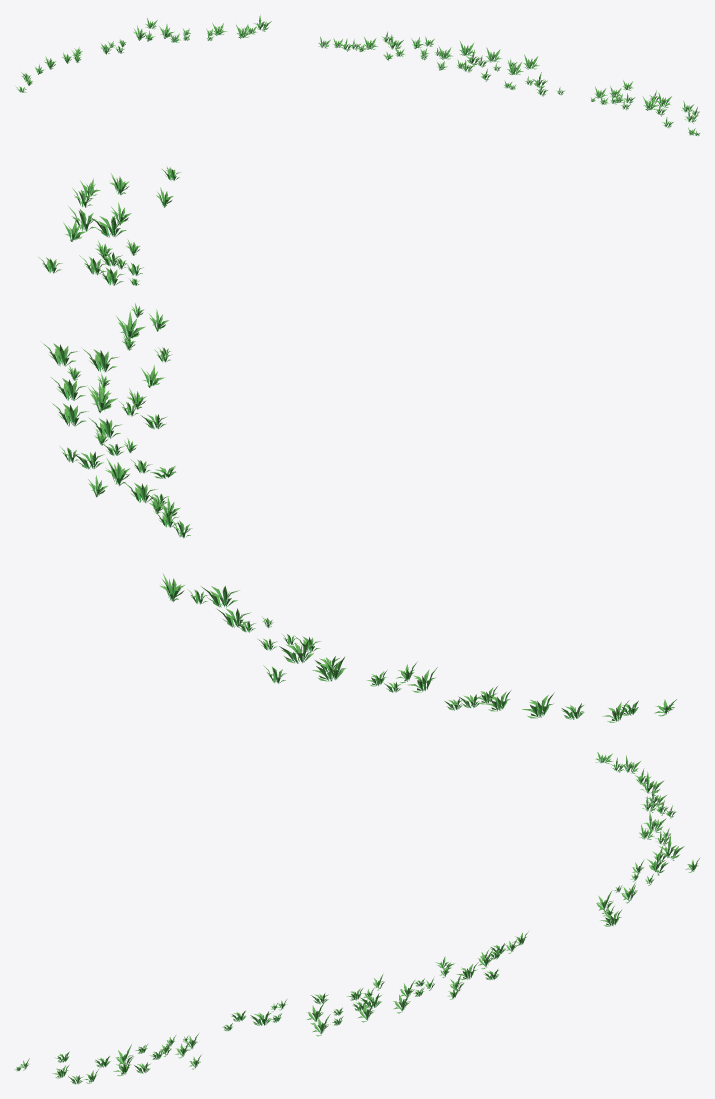
File: Area_12_19.fbx
3 views of the same model, one above another, from view 1: azimuth 30°, elevation 25°; view 2: azimuth 150°, elevation 25°; view 3: azimuth 270°, elevation 25° (orthographic). The views are drawn at different scales.
Visible parts, largest first — view 1: Area_12_19; view 2: Area_12_19; view 3: Area_12_19.
Part boxes in pixels (box(x1,y1,x2,y2)): Area_12_19: box(15, 14, 699, 135); Area_12_19: box(38, 167, 676, 722); Area_12_19: box(14, 752, 699, 1084).
Bounding box in the file's own units: 3900 × 108 × 3464.
